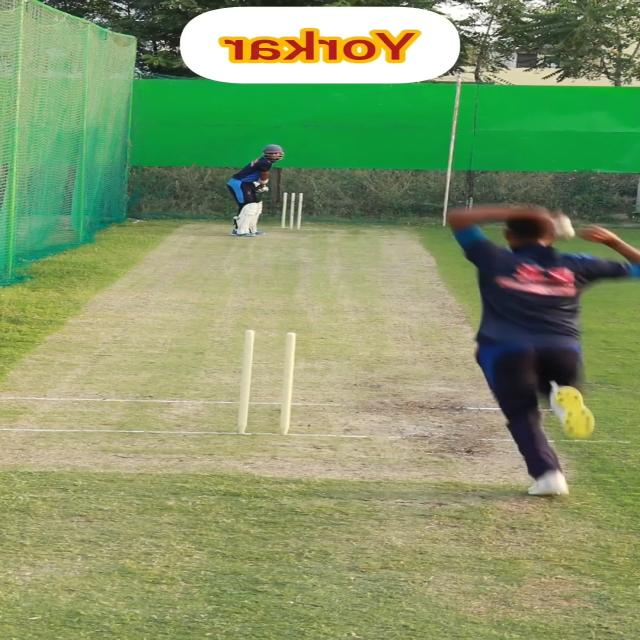stump: (236, 330, 297, 435), (280, 192, 305, 230)
